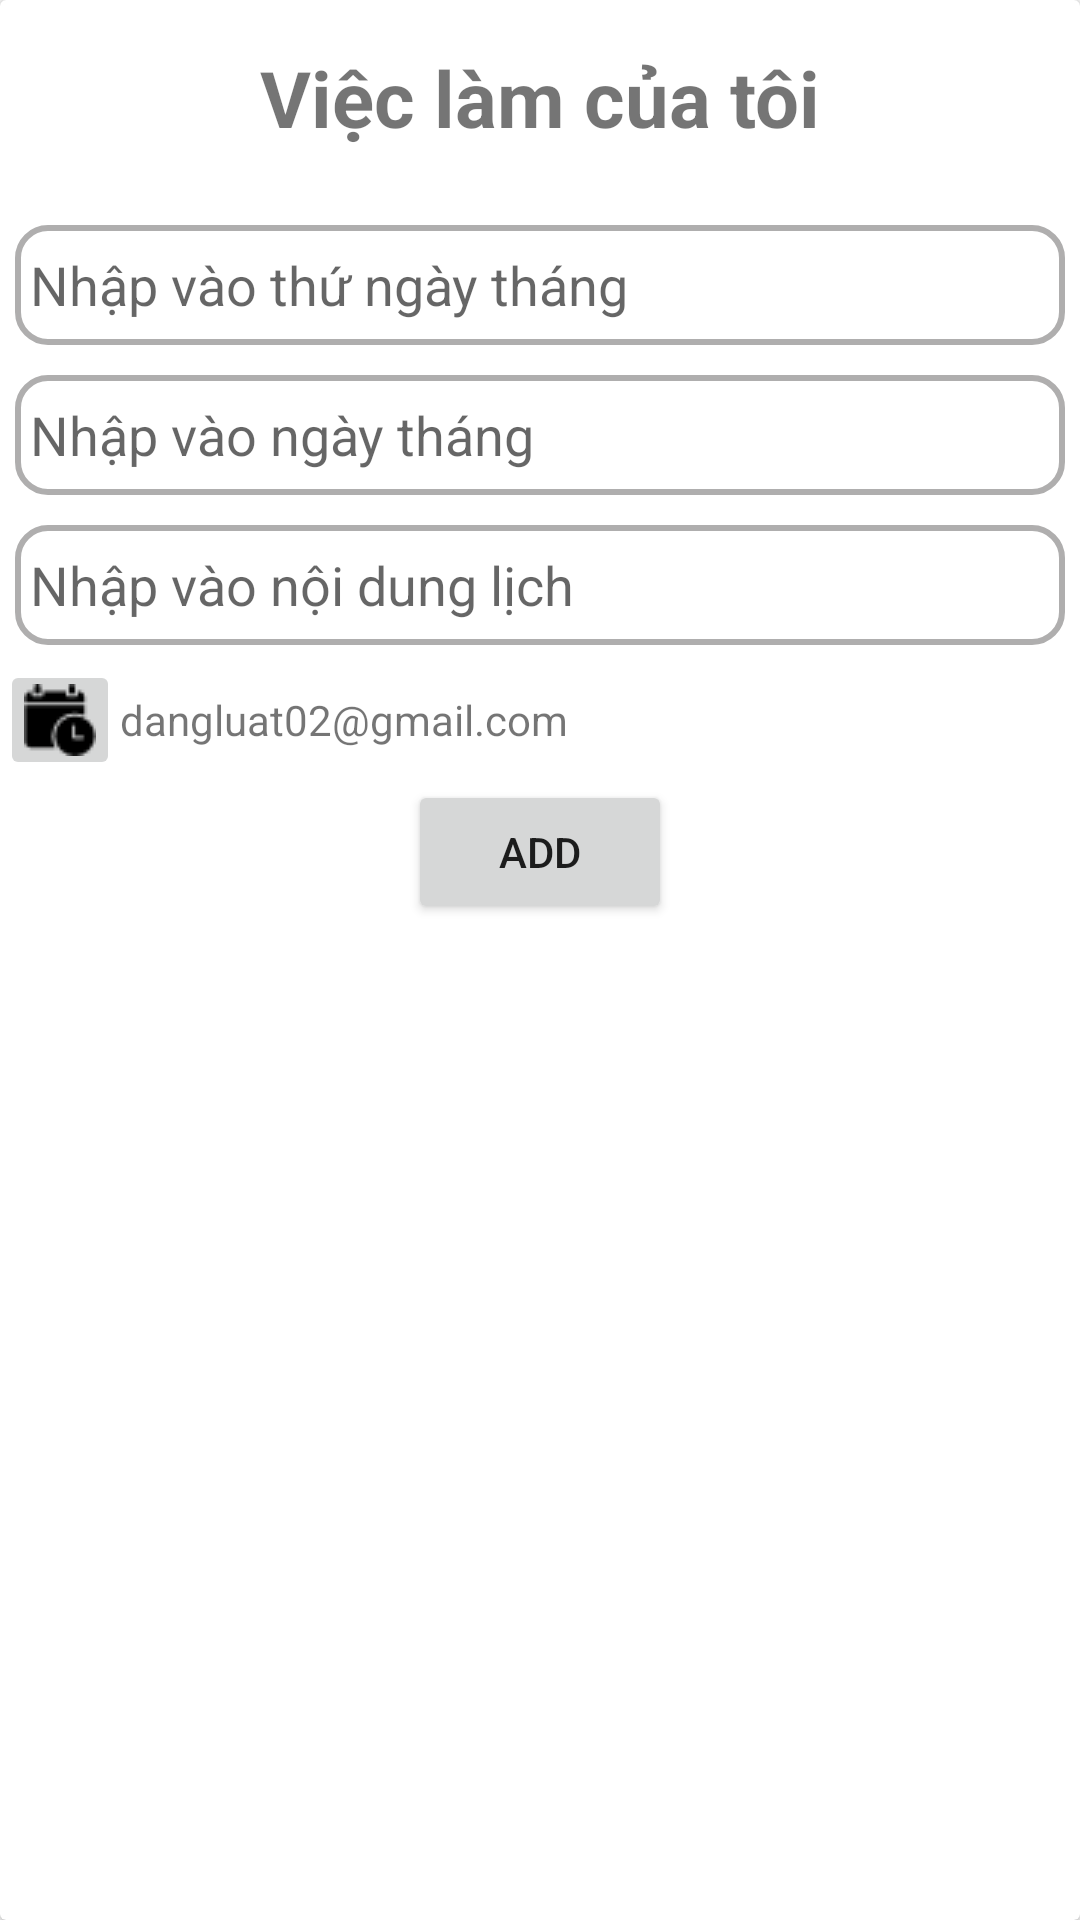

Point at icon controls on the screen. Image size 1080px x 1920px, points as [x,y].
event: [60,720]
